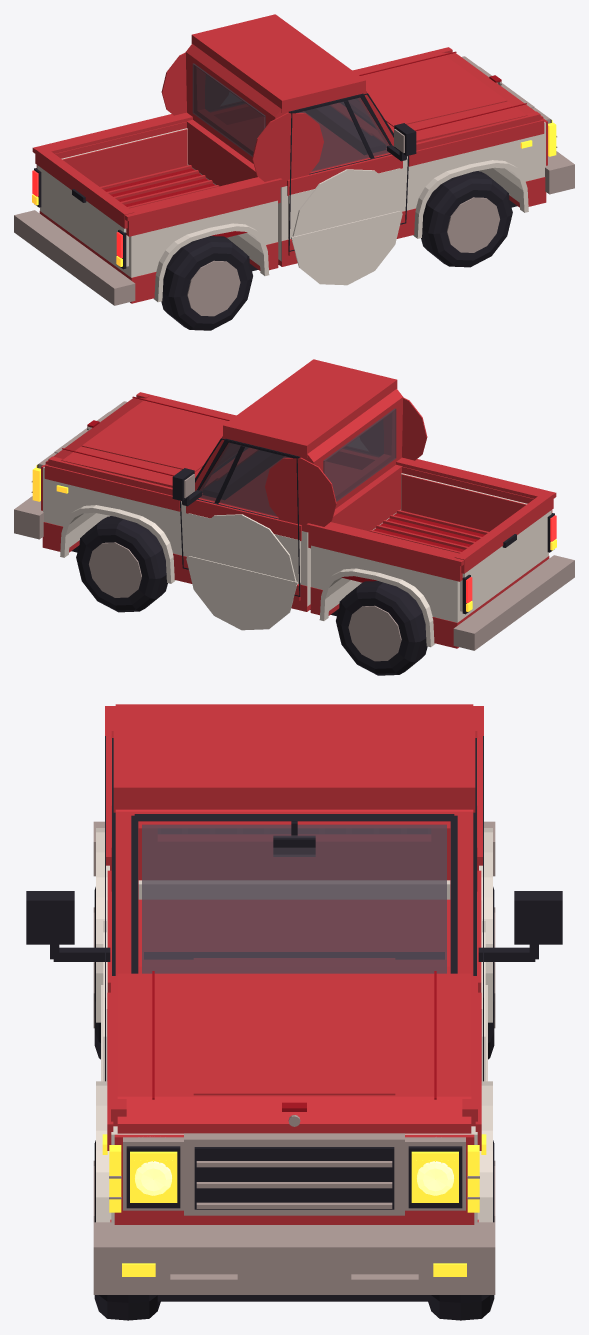
File: veh.pickup-red.lod1.glb
The picture shows the model from 3 angles, top to bottom: view 1: azimuth 30°, elevation 25°; view 2: azimuth 150°, elevation 25°; view 3: azimuth 270°, elevation 25°; orthographic projection. The views are drawn at different scales.
Parts seen in each view (by area): view 1: object 10, body, doorL, wheelFL, wheelRL, doorR, lightsBrake; view 2: object 10, body, doorR, wheelFR, wheelRR, doorL, lightsBrake; view 3: object 10, body, doorL, doorR, lightsFront, wheelFL, wheelFR.
Part boxes in pixels (x1=…): object 10: x1=14, y1=14, x2=574, y2=305; body: x1=40, y1=122, x2=545, y2=302; doorL: x1=287, y1=93, x2=416, y2=255; wheelFL: x1=421, y1=171, x2=512, y2=267; wheelRL: x1=161, y1=236, x2=252, y2=330; doorR: x1=205, y1=75, x2=244, y2=111; lightsBrake: x1=32, y1=170, x2=122, y2=266; object 10: x1=14, y1=359, x2=574, y2=650; body: x1=43, y1=467, x2=548, y2=647; doorR: x1=172, y1=438, x2=301, y2=600; wheelFR: x1=76, y1=516, x2=167, y2=612; wheelRR: x1=336, y1=581, x2=427, y2=675; doorL: x1=344, y1=420, x2=383, y2=456; lightsBrake: x1=466, y1=515, x2=556, y2=611; object 10: x1=93, y1=704, x2=495, y2=1301; body: x1=96, y1=828, x2=492, y2=1223; doorL: x1=26, y1=736, x2=115, y2=1081; doorR: x1=473, y1=736, x2=562, y2=1081; lightsFront: x1=130, y1=1151, x2=458, y2=1202; wheelFL: x1=93, y1=1140, x2=160, y2=1320; wheelFR: x1=428, y1=1140, x2=495, y2=1320.
Bounding box in the file's own units: 5.07 × 2.22 × 2.55.
